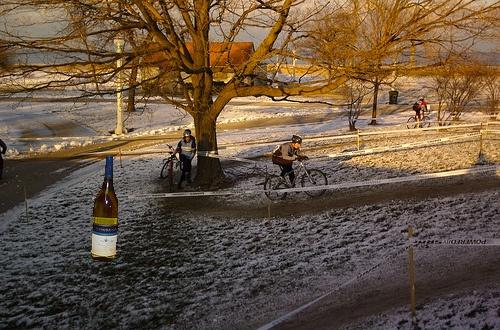tampered: (92, 156, 118, 262)
